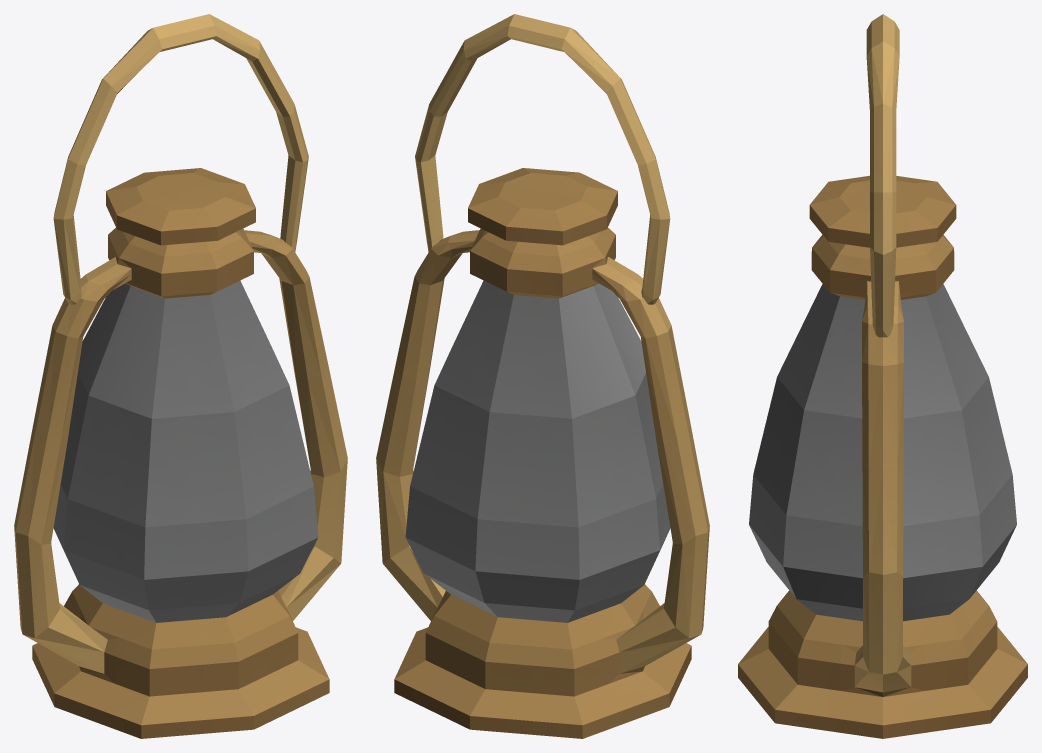
File: lantern.dae
3 views of the same model, side by side, from view 1: azimuth 30°, elevation 25°; view 2: azimuth 150°, elevation 25°; view 3: azimuth 270°, elevation 25° (orthographic).
Parts seen in each view (by area): view 1: lantern, lantern_handle; view 2: lantern, lantern_handle; view 3: lantern, lantern_handle.
Part boxes in pixels (x1,y1,x2,y2): lantern: [14, 168, 347, 738]; lantern_handle: [53, 14, 308, 304]; lantern: [376, 168, 709, 738]; lantern_handle: [415, 14, 670, 304]; lantern: [738, 175, 1027, 738]; lantern_handle: [866, 14, 899, 337].
Bounding box in the file's own units: 0.2624 × 0.2009 × 0.4972.
